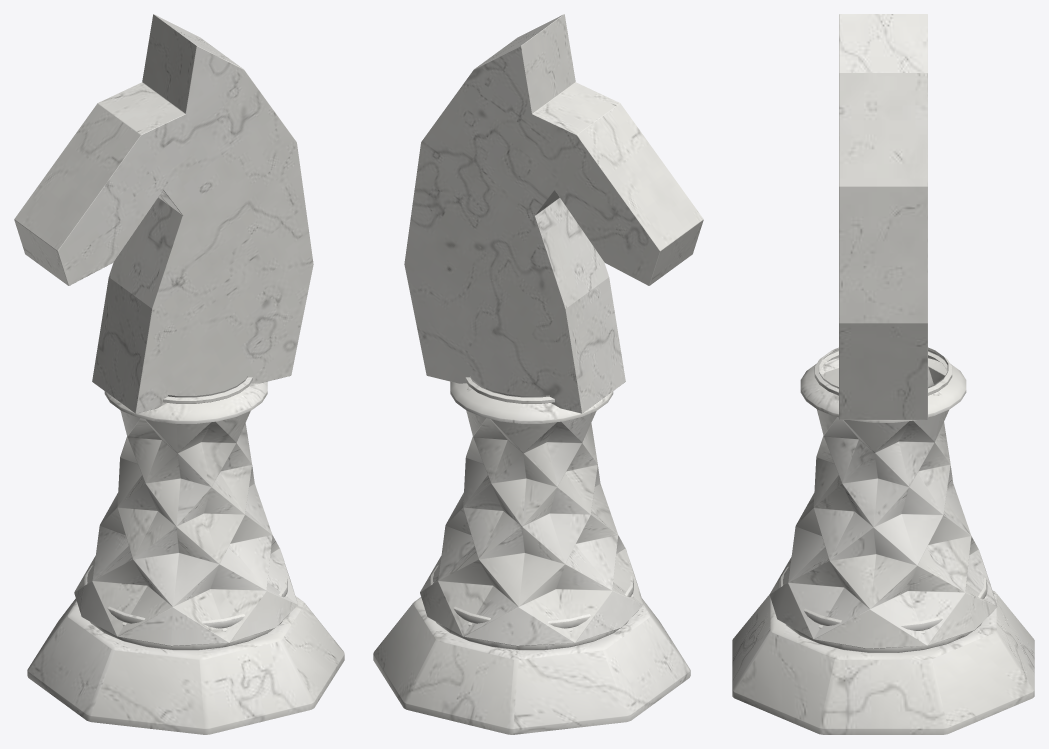
The model's file is marker-knight.glb.
The picture shows the model from 3 angles, left to right: view 1: azimuth 30°, elevation 25°; view 2: azimuth 150°, elevation 25°; view 3: azimuth 270°, elevation 25°; orthographic projection.
Visible parts, largest first — view 1: Marker_Knight_LOD1; view 2: Marker_Knight_LOD1; view 3: Marker_Knight_LOD1.
Boxes of the visible parts, <box> form: Marker_Knight_LOD1: <box>14,14,344,734</box>; Marker_Knight_LOD1: <box>373,14,703,734</box>; Marker_Knight_LOD1: <box>732,14,1034,734</box>.
Bounding box in the file's own units: 0.5008 × 1.1 × 0.4619.
1 material, 1 textured.
